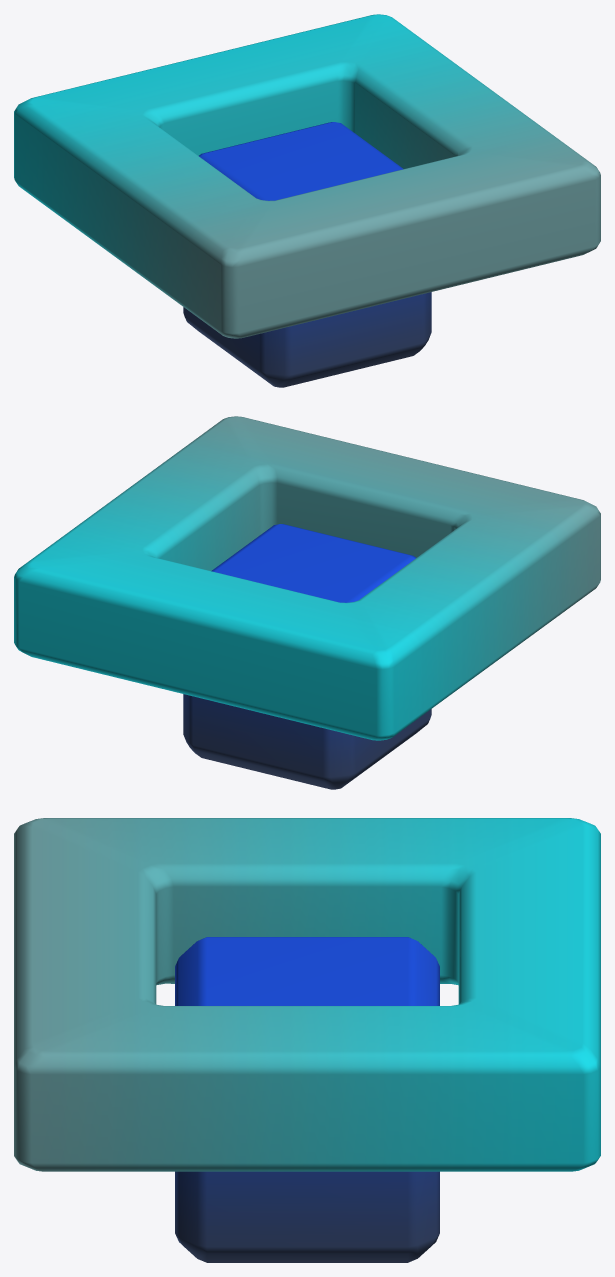
File: Bit03.fbx
3 views of the same model, one above another, from view 1: azimuth 30°, elevation 25°; view 2: azimuth 150°, elevation 25°; view 3: azimuth 270°, elevation 25° (orthographic). The views are drawn at different scales.
Visible parts, largest first — view 1: Frame, Cube; view 2: Frame, Cube; view 3: Frame, Cube.
Boxes of the visible parts, x1=… form: Frame: x1=14, y1=14, x2=600, y2=338; Cube: x1=183, y1=122, x2=431, y2=387; Frame: x1=14, y1=416, x2=600, y2=740; Cube: x1=183, y1=524, x2=431, y2=789; Frame: x1=14, y1=818, x2=600, y2=1171; Cube: x1=175, y1=937, x2=439, y2=1262.
Bounding box in the file's own units: 2.22 × 1.19 × 2.22.
